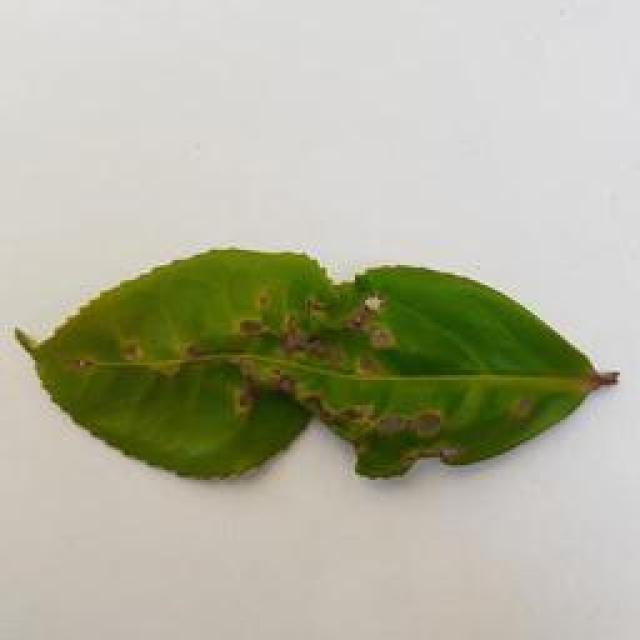Helopeltis: (16, 247, 616, 491)
